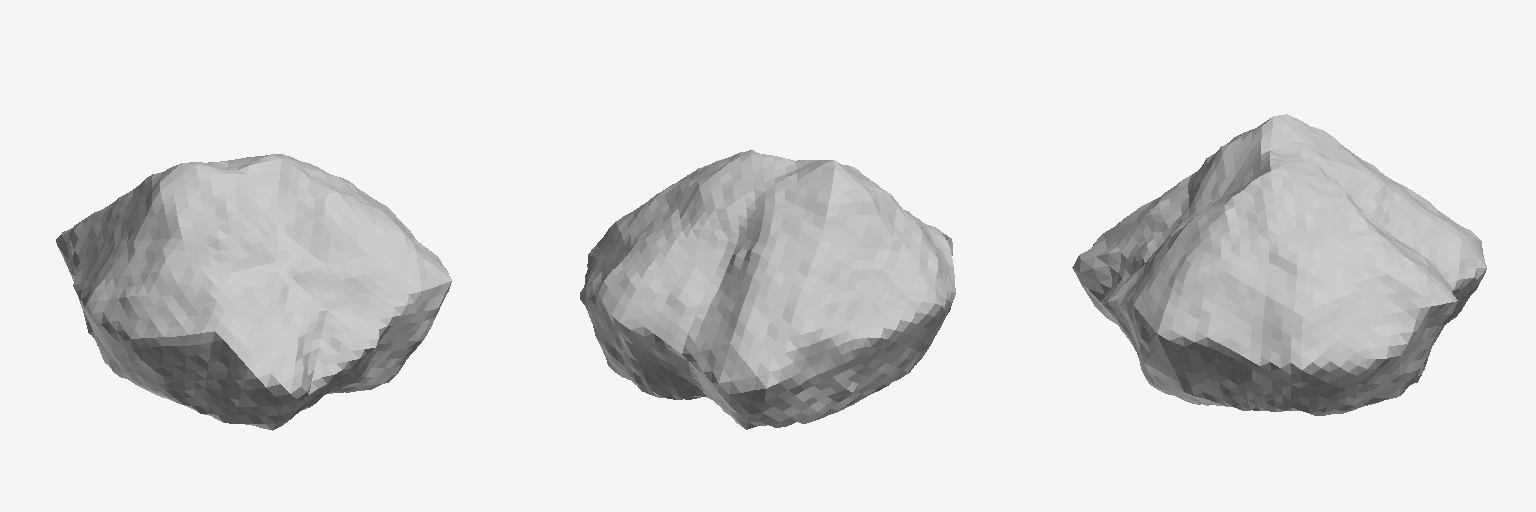
The model's file is Rock1.obj.
The picture shows the model from 3 angles: view 1: azimuth 30°, elevation 25°; view 2: azimuth 150°, elevation 25°; view 3: azimuth 270°, elevation 25°; orthographic projection.
Visible parts, largest first — view 1: default; view 2: default; view 3: default.
Part boxes in pixels (bbox=[...]): default: bbox=[56, 154, 451, 430]; default: bbox=[580, 150, 955, 429]; default: bbox=[1072, 114, 1486, 415].
Bounding box in the file's own units: 2.18 × 1.35 × 2.32.